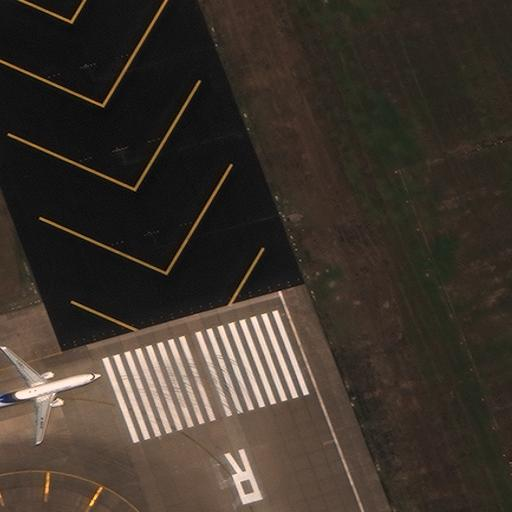Medium Civil Transport: (0, 345, 101, 442)
